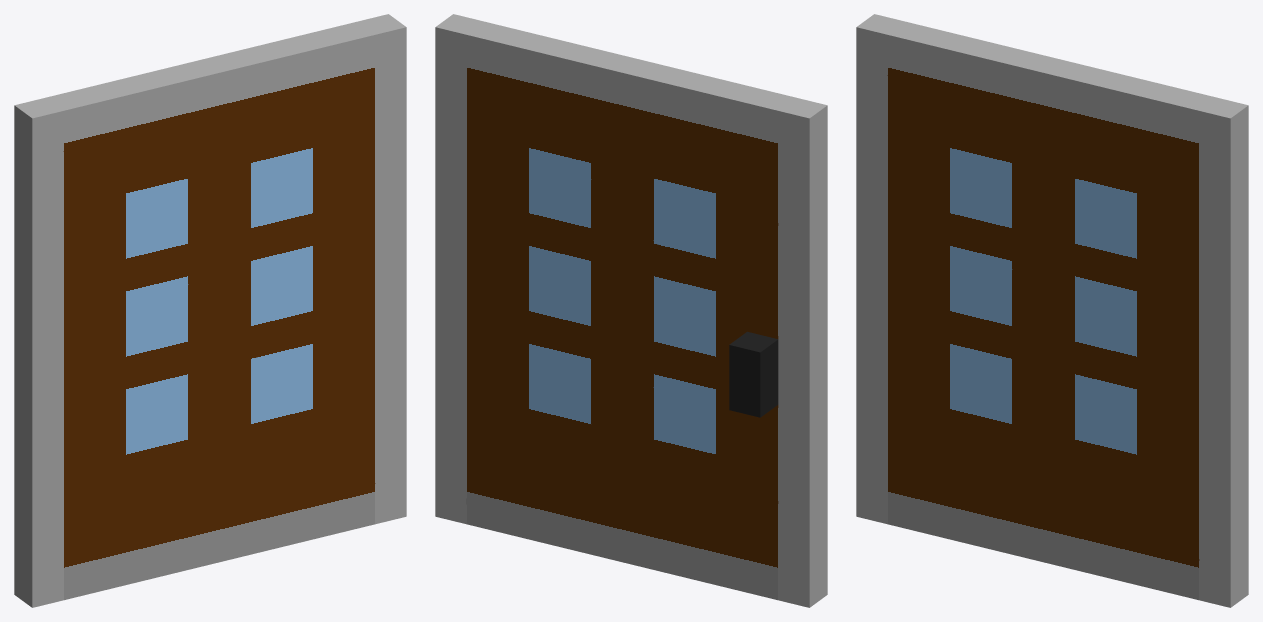
File: obj_door2.fbx
3 views of the same model, side by side, from view 1: azimuth 30°, elevation 25°; view 2: azimuth 150°, elevation 25°; view 3: azimuth 330°, elevation 25° (orthographic).
Parts seen in each view (by area): view 1: obj_door2; view 2: obj_door2; view 3: obj_door2.
Boxes of the visible parts, x1,y1,x2,y2 form: obj_door2: (14,14,406,607); obj_door2: (435,14,827,607); obj_door2: (856,14,1248,607).
Bounding box in the file's own units: 1.2 × 0.2 × 1.5.
Materials: 1 (1 with a texture image).
